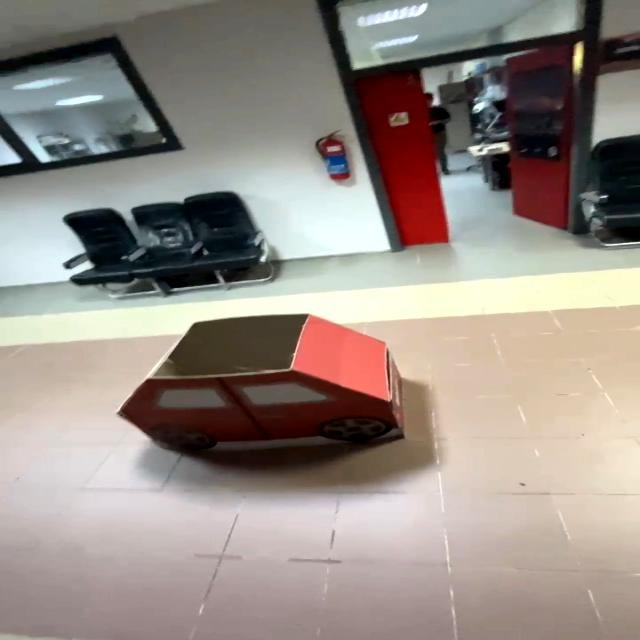red_car: (75, 310, 473, 474)
